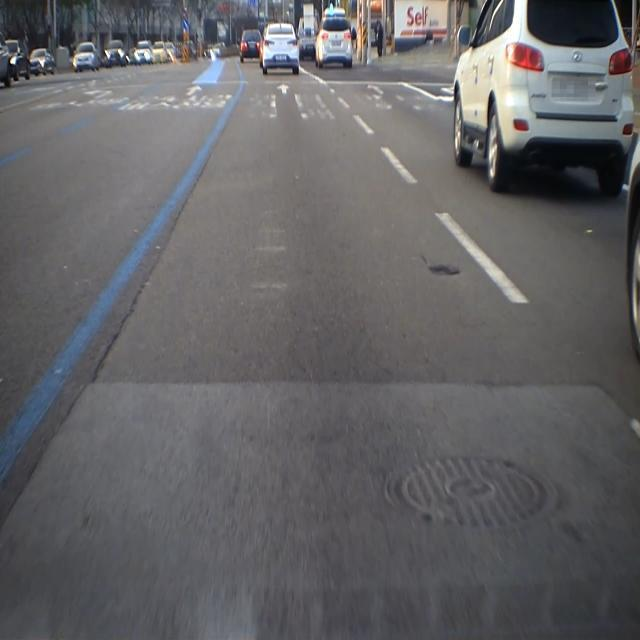Buraco: (426, 264, 463, 278)
